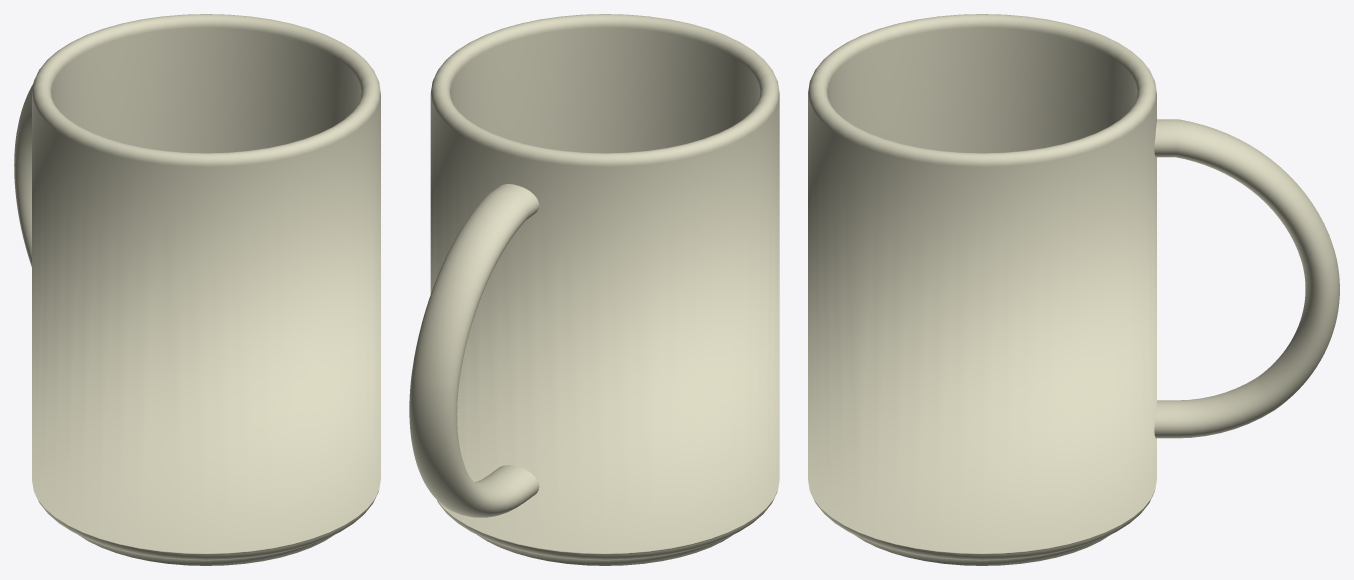
3 views of the same model, side by side, from view 1: azimuth 30°, elevation 25°; view 2: azimuth 150°, elevation 25°; view 3: azimuth 270°, elevation 25° (orthographic).
Visible parts, largest first — view 1: mesh1_mesh1-geometry, mesh4_mesh4-geometry; view 2: mesh1_mesh1-geometry, mesh4_mesh4-geometry; view 3: mesh1_mesh1-geometry, mesh4_mesh4-geometry.
Part boxes in pixels (bbox=[...]): mesh1_mesh1-geometry: bbox=[32, 14, 380, 565]; mesh4_mesh4-geometry: bbox=[14, 84, 33, 266]; mesh1_mesh1-geometry: bbox=[430, 14, 779, 565]; mesh4_mesh4-geometry: bbox=[409, 184, 539, 517]; mesh1_mesh1-geometry: bbox=[808, 14, 1156, 565]; mesh4_mesh4-geometry: bbox=[1154, 119, 1339, 438].
Bounding box in the file's own units: 0.4438 × 0.5876 × 0.6766.
